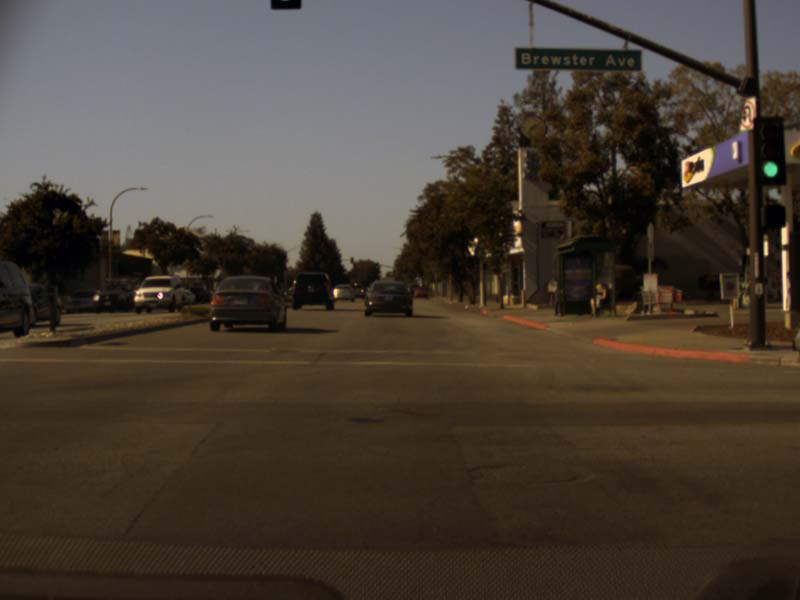Green: (753, 115, 785, 183), (375, 262, 379, 271), (415, 273, 417, 280)
